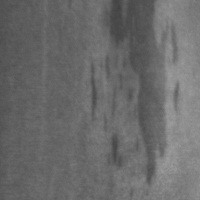inclusion: (98, 1, 182, 190), (91, 53, 135, 133), (101, 129, 127, 171)
